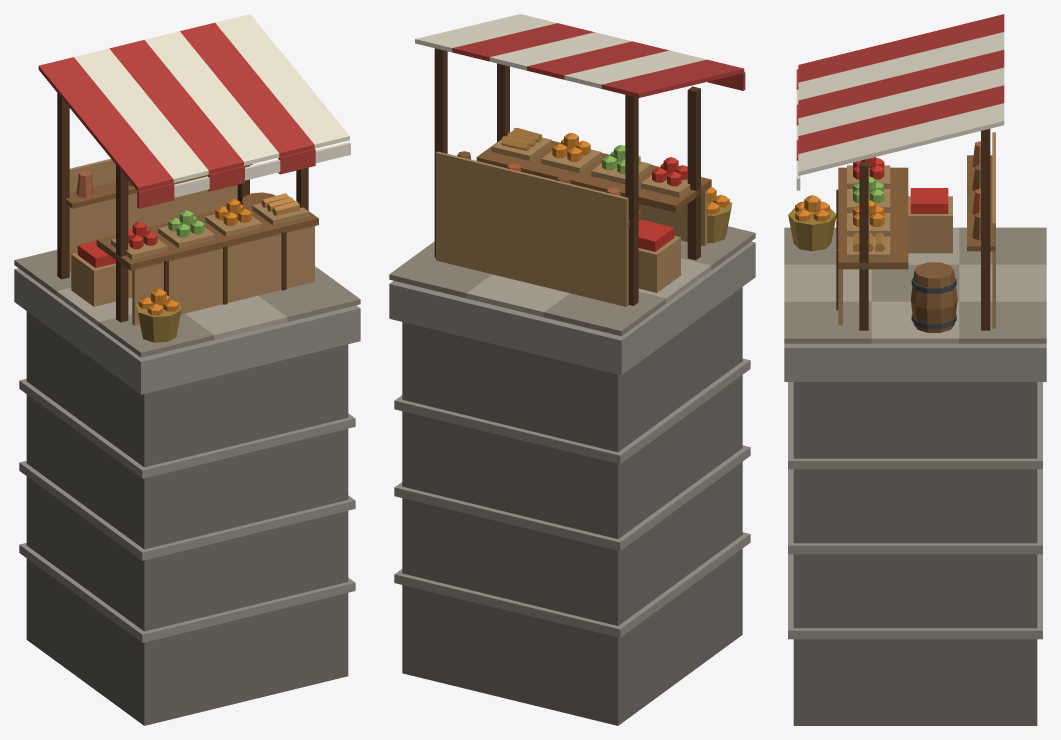
Rendered from decor_market_stall.glb.
3 views of the same model, side by side, from view 1: azimuth 30°, elevation 25°; view 2: azimuth 150°, elevation 25°; view 3: azimuth 270°, elevation 25° (orthographic). The views are drawn at different scales.
Parts seen in each view (by area): view 1: decor_market_stall; view 2: decor_market_stall; view 3: decor_market_stall.
Part boxes in pixels (x1,y1,x2,y2): decor_market_stall: (14,14,360,725); decor_market_stall: (389,14,755,725); decor_market_stall: (784,14,1046,725).
Bounding box in the file's own units: 2.8 × 7.15 × 2.8.
